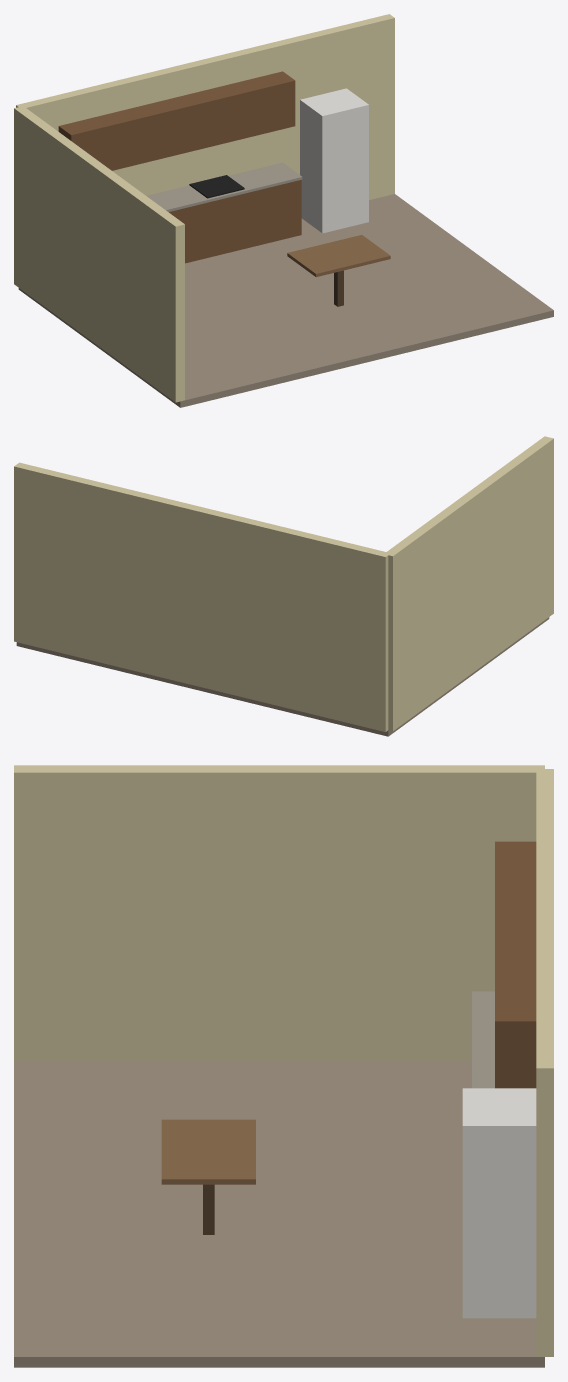
File: kitchen-before.glb
The picture shows the model from 3 angles, top to bottom: view 1: azimuth 30°, elevation 25°; view 2: azimuth 150°, elevation 25°; view 3: azimuth 270°, elevation 25°; orthographic projection. The views are drawn at different scales.
Parts seen in each view (by area): view 1: Floor, Wall_Left, Wall_Back, Upper_Cabinets, Fridge, Counter_Base, Table_Top, Counter_Top, Stove_Top; view 2: Wall_Back, Wall_Left, Floor; view 3: Wall_Left, Floor, Fridge, Wall_Back, Upper_Cabinets, Table_Top, Counter_Top.
Part boxes in pixels (bbox=[...]): Floor: bbox=[18, 194, 553, 407]; Wall_Left: bbox=[14, 106, 184, 402]; Wall_Back: bbox=[16, 14, 394, 199]; Upper_Cabinets: bbox=[58, 71, 295, 170]; Fridge: bbox=[300, 88, 368, 233]; Counter_Base: bbox=[169, 180, 301, 263]; Table_Top: bbox=[287, 235, 390, 277]; Counter_Top: bbox=[147, 162, 302, 211]; Stove_Top: bbox=[189, 175, 244, 198]; Wall_Back: bbox=[14, 462, 390, 731]; Wall_Left: bbox=[384, 436, 553, 731]; Floor: bbox=[16, 617, 549, 736]; Wall_Left: bbox=[14, 765, 544, 1061]; Floor: bbox=[14, 1061, 544, 1367]; Fridge: bbox=[462, 1088, 536, 1318]; Wall_Back: bbox=[536, 769, 553, 1356]; Upper_Cabinets: bbox=[495, 841, 536, 1088]; Table_Top: bbox=[161, 1119, 255, 1184]; Counter_Top: bbox=[472, 991, 494, 1088].
Bounding box in the file's own units: 6.08 × 2.8 × 4.58.
